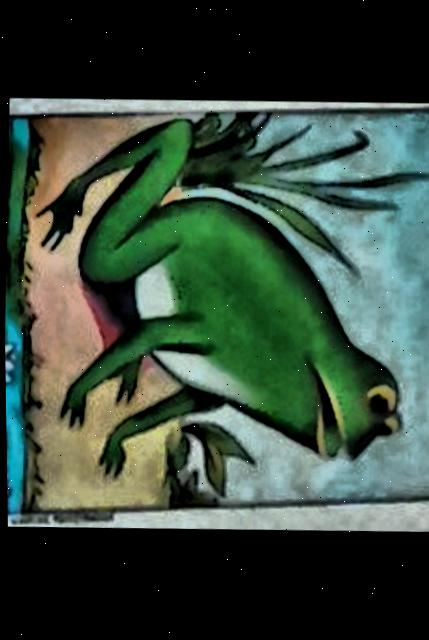La Rana: (4, 115, 429, 513)
